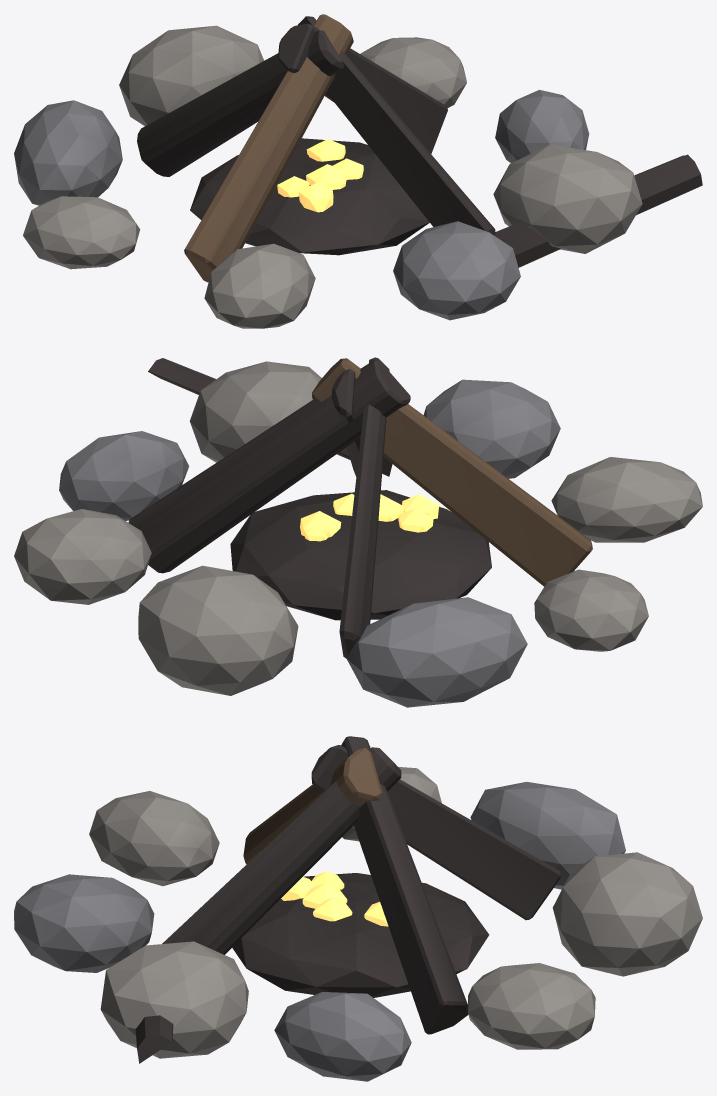
File: campfire.glb
The picture shows the model from 3 angles, top to bottom: view 1: azimuth 30°, elevation 25°; view 2: azimuth 150°, elevation 25°; view 3: azimuth 270°, elevation 25°; orthographic projection. The views are drawn at different scales.
Parts seen in each view (by area): view 1: campfire; view 2: campfire; view 3: campfire.
Part boxes in pixels (left/top/right/bottom): campfire: left=14, top=14, right=702, bottom=328; campfire: left=14, top=357, right=702, bottom=707; campfire: left=14, top=736, right=702, bottom=1081.
Size of the model in its own units: 1.3 by 0.4736 by 1.31.
